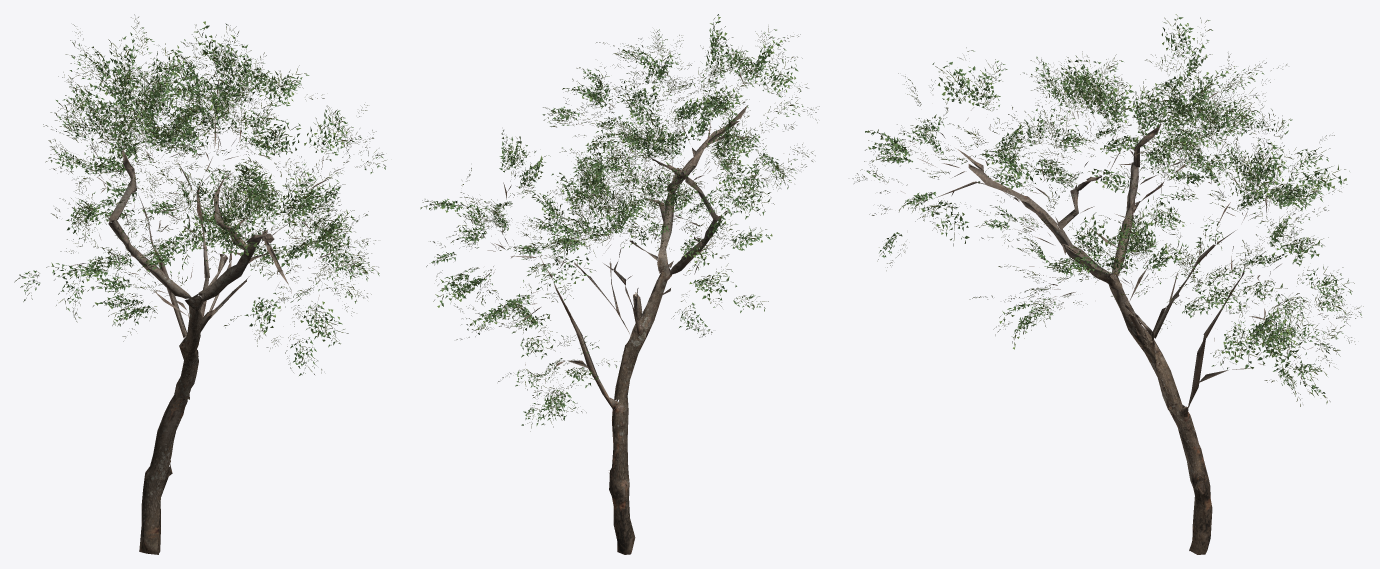
Rendered from tree-lod.glb.
The picture shows the model from 3 angles, left to right: view 1: azimuth 30°, elevation 25°; view 2: azimuth 150°, elevation 25°; view 3: azimuth 270°, elevation 25°; orthographic projection. The views are drawn at different scales.
Parts seen in each view (by area): view 1: tree_small_02_LOD0; view 2: tree_small_02_LOD0; view 3: tree_small_02_LOD0.
Part boxes in pixels (bbox=[...]): tree_small_02_LOD0: bbox=[14, 14, 386, 554]; tree_small_02_LOD0: bbox=[420, 14, 819, 554]; tree_small_02_LOD0: bbox=[852, 14, 1363, 554].
Bounding box in the file's own units: 2.88 × 4.55 × 4.27.
3 materials, 3 textured.
